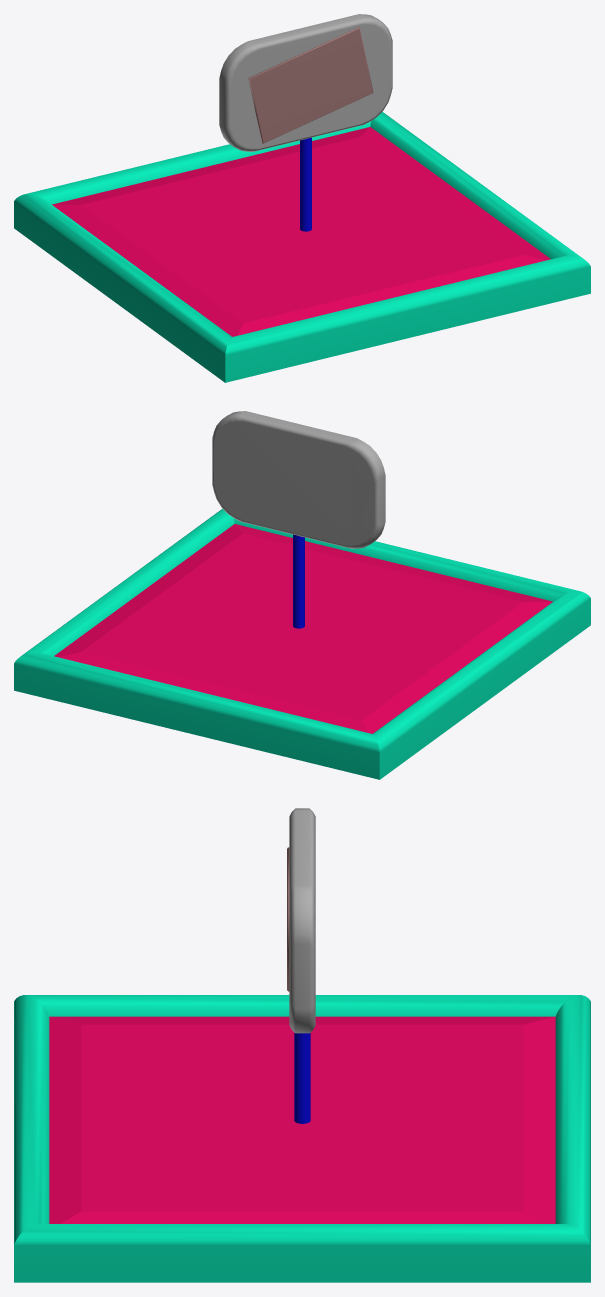
Rendered from Purchase_Bed.fbx.
3 views of the same model, one above another, from view 1: azimuth 30°, elevation 25°; view 2: azimuth 150°, elevation 25°; view 3: azimuth 270°, elevation 25° (orthographic). The views are drawn at different scales.
Parts seen in each view (by area): view 1: Empty_Bed_Dirt1, Empty_Bed, pCube1, pCube2, pCylinder1; view 2: Empty_Bed_Dirt1, Empty_Bed, pCube1, pCylinder1; view 3: Empty_Bed_Dirt1, Empty_Bed, pCube1, pCylinder1.
Boxes of the visible parts, box(x1,y1,x2,y2) form: Empty_Bed_Dirt1: box(52, 127, 550, 336); Empty_Bed: box(14, 112, 590, 382); pCube1: box(219, 14, 392, 151); pCube2: box(248, 27, 373, 143); pCylinder1: box(300, 137, 311, 231); Empty_Bed_Dirt1: box(54, 524, 552, 733); Empty_Bed: box(14, 509, 590, 779); pCube1: box(212, 411, 385, 548); pCylinder1: box(293, 534, 304, 628); Empty_Bed_Dirt1: box(49, 1016, 555, 1223); Empty_Bed: box(14, 995, 590, 1282); pCube1: box(289, 808, 315, 1033); pCylinder1: box(294, 1033, 310, 1123).
Bounding box in the file's own units: 4.24 × 2.55 × 4.24.
